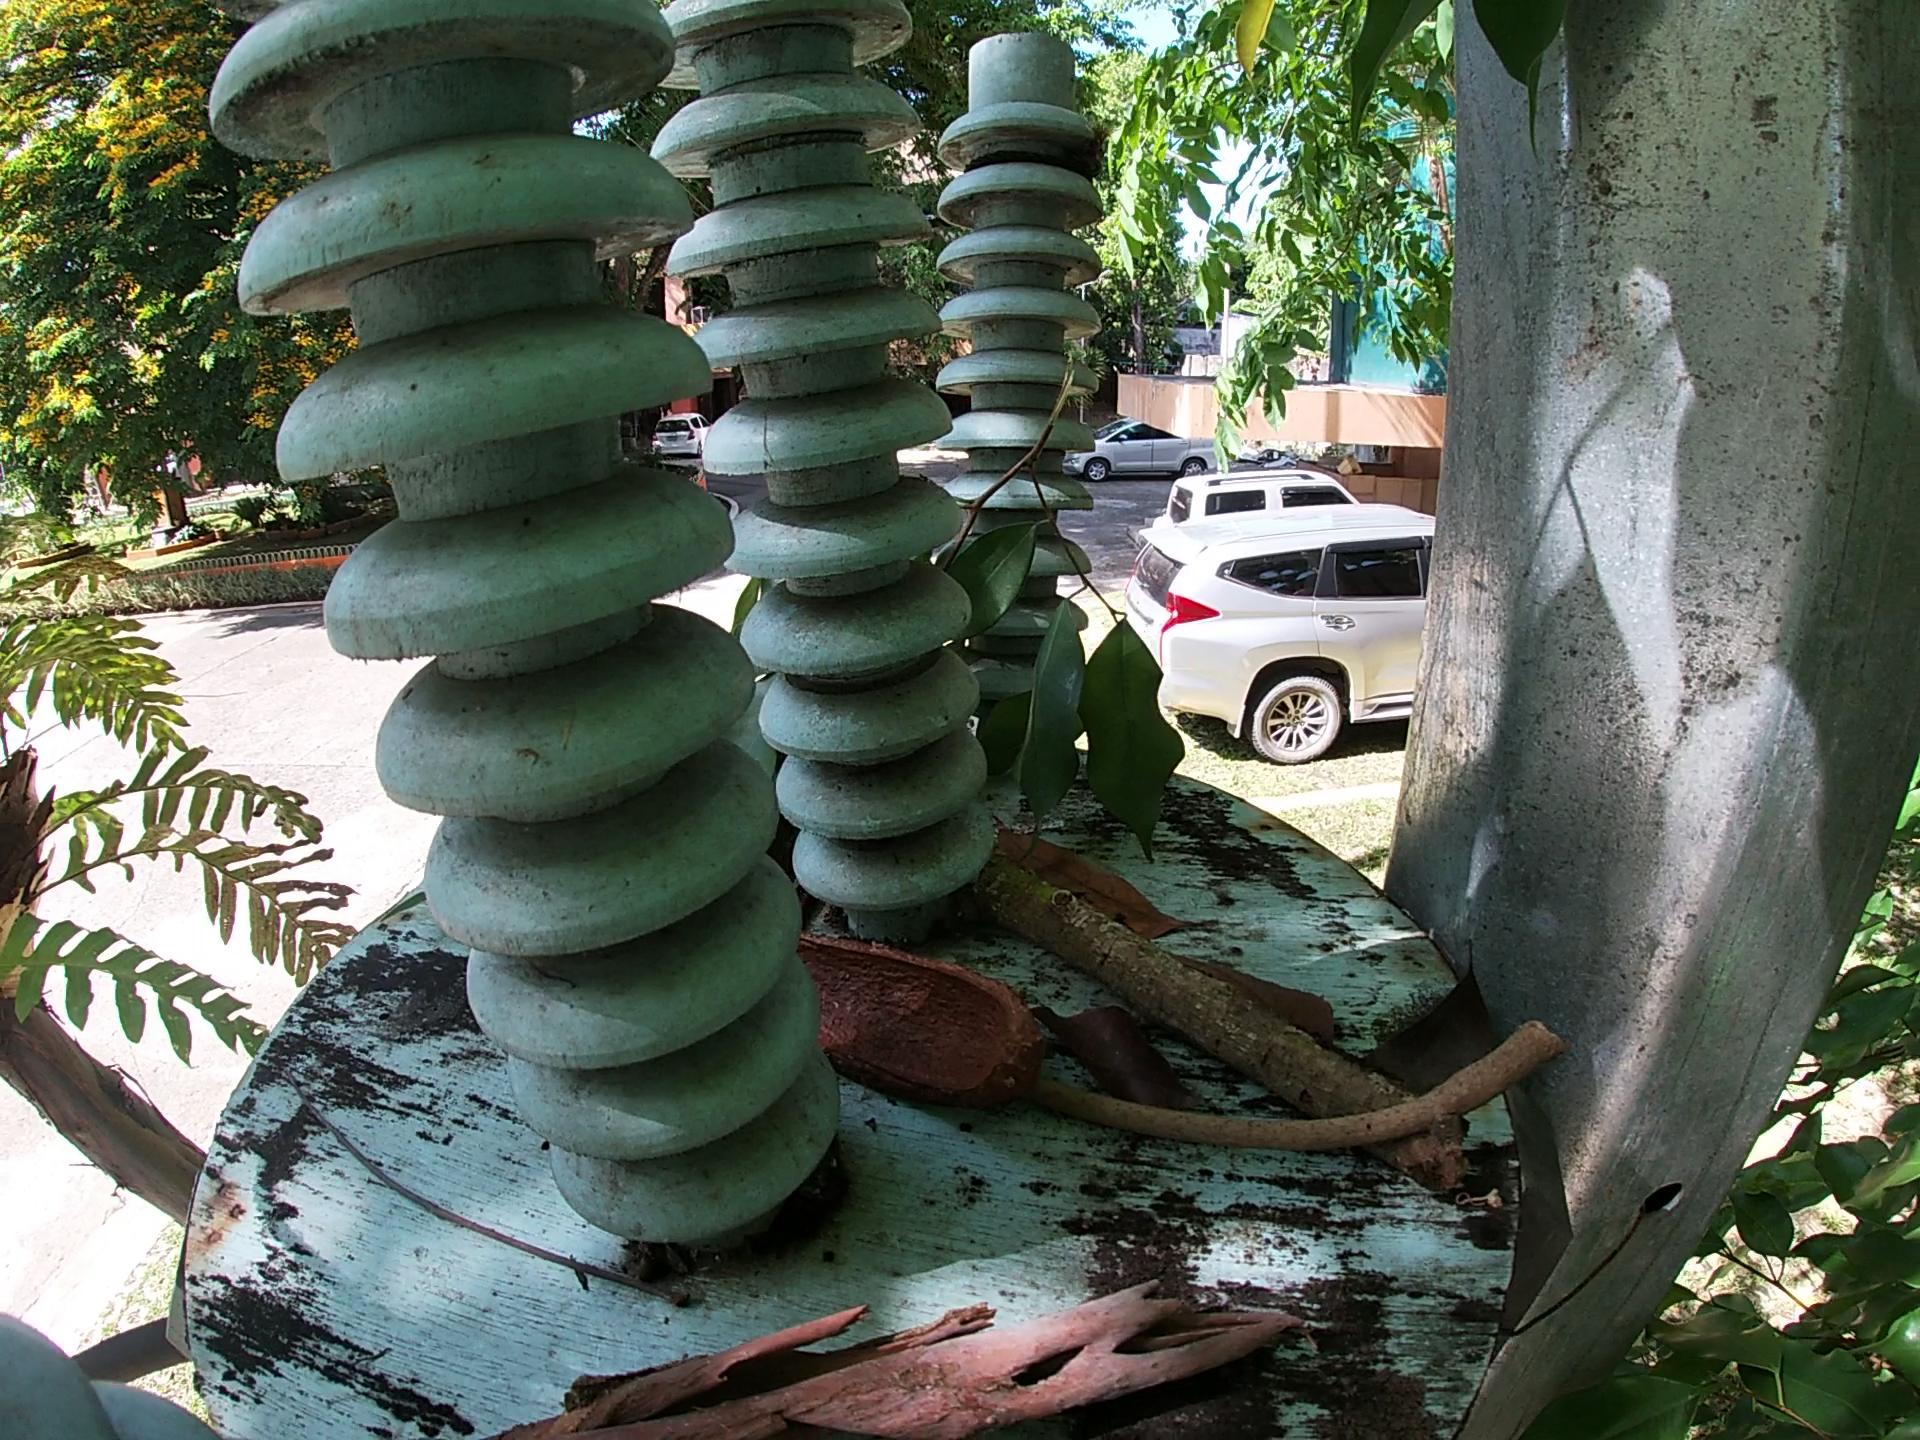branch with leaves: (930, 324, 1222, 861)
leaf: (989, 817, 1208, 933), (1164, 942, 1355, 1035), (708, 563, 795, 678)
mahogany fruit: (780, 920, 1043, 1113)
tree branch: (963, 843, 1485, 1196), (532, 1283, 1330, 1440), (265, 1063, 709, 1319), (1005, 1012, 1562, 1156)
